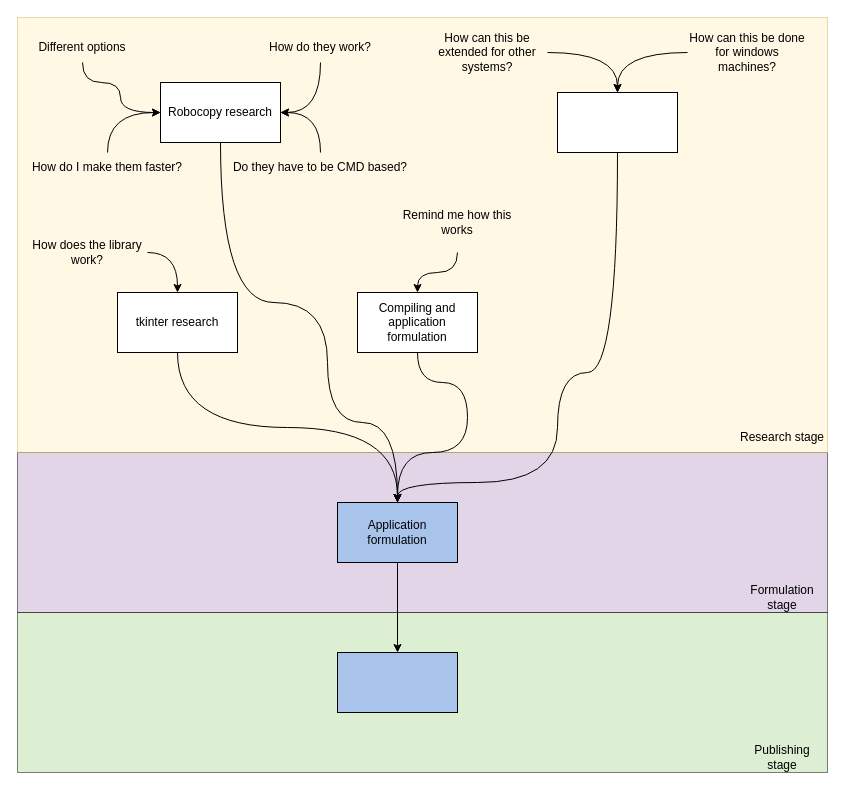
This 845x790 diagram has some shape labels left out. Each missing label, with the centre of its shape:
"Application publish" belongs at [397,682].
"Multiple systems integration research" belongs at [617,122].
